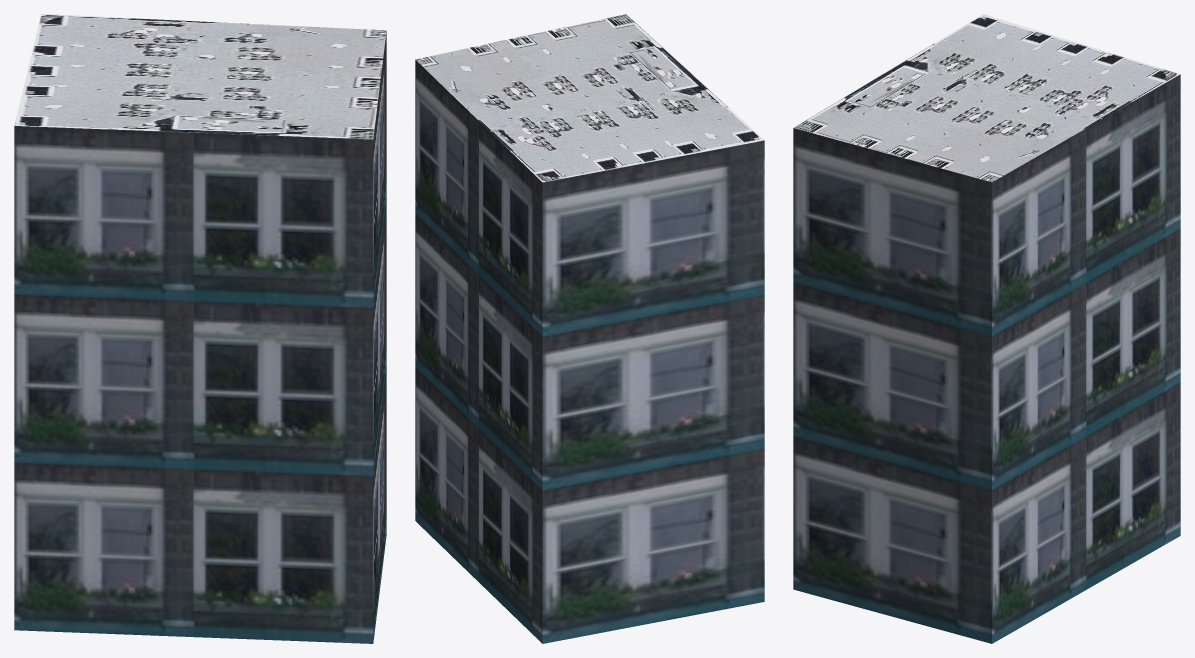
File: ResTex__168.fbx
The picture shows the model from 3 angles, left to right: view 1: azimuth 30°, elevation 25°; view 2: azimuth 150°, elevation 25°; view 3: azimuth 270°, elevation 25°; orthographic projection. The views are drawn at different scales.
Parts seen in each view (by area): view 1: CityEngineMaterial_11_m, CityEngineMaterial_4_m; view 2: CityEngineMaterial_11_m, CityEngineMaterial_4_m; view 3: CityEngineMaterial_11_m, CityEngineMaterial_4_m.
Boxes of the visible parts, left/top/right/bottom form: CityEngineMaterial_11_m: left=14, top=32, right=386, bottom=643; CityEngineMaterial_4_m: left=14, top=14, right=386, bottom=139; CityEngineMaterial_11_m: left=415, top=60, right=764, bottom=643; CityEngineMaterial_4_m: left=415, top=14, right=764, bottom=182; CityEngineMaterial_11_m: left=793, top=74, right=1180, bottom=643; CityEngineMaterial_4_m: left=794, top=14, right=1180, bottom=182.
Size of the model in its own units: 7.04 by 9 by 6.85.
2 materials, 2 textured.
